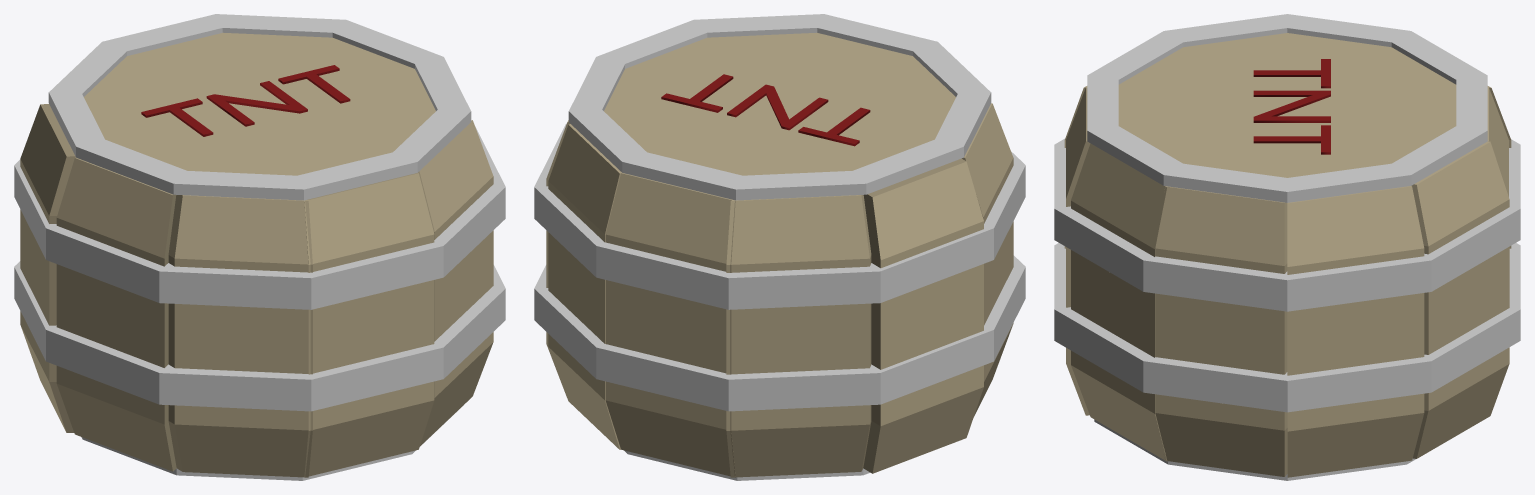
The model's file is Tnt_barrel.fbx.
The picture shows the model from 3 angles, left to right: view 1: azimuth 30°, elevation 25°; view 2: azimuth 150°, elevation 25°; view 3: azimuth 270°, elevation 25°; orthographic projection.
Parts seen in each view (by area): view 1: Труба, Труба_1, Труба_2, Текст; view 2: Труба, Труба_1, Труба_2, Текст; view 3: Труба, Труба_1, Труба_2, Текст.
Part boxes in pixels (left/top/right/bottom): Труба: left=20, top=14, right=493, bottom=480; Труба_1: left=14, top=126, right=505, bottom=309; Труба_2: left=14, top=261, right=505, bottom=411; Текст: left=141, top=65, right=350, bottom=136; Труба: left=546, top=14, right=1013, bottom=480; Труба_1: left=534, top=123, right=1025, bottom=309; Труба_2: left=534, top=255, right=1025, bottom=411; Текст: left=661, top=74, right=870, bottom=146; Труба: left=1064, top=14, right=1511, bottom=480; Труба_1: left=1054, top=138, right=1520, bottom=311; Труба_2: left=1054, top=243, right=1520, bottom=412; Текст: left=1253, top=59, right=1330, bottom=154.
Bounding box in the file's own units: 211 × 138 × 200.
